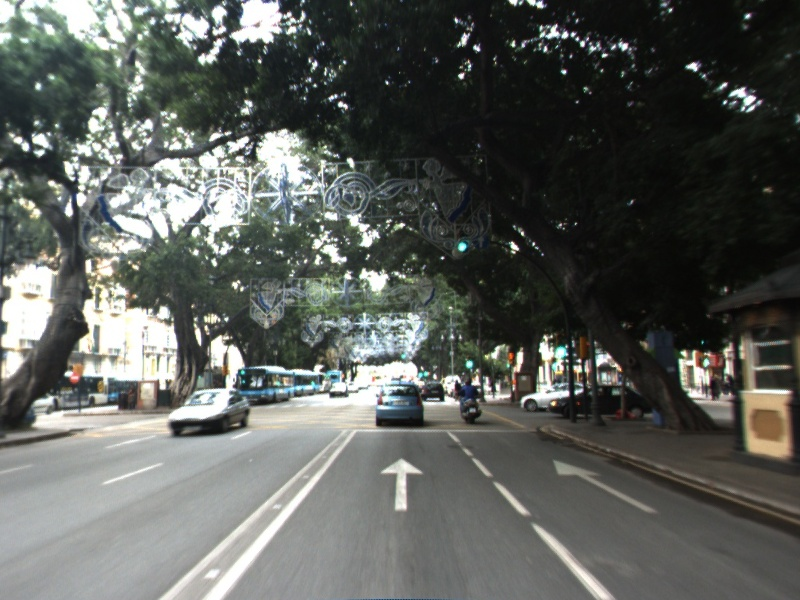STRAIGHT: (551, 457, 660, 516), (378, 456, 426, 514)
